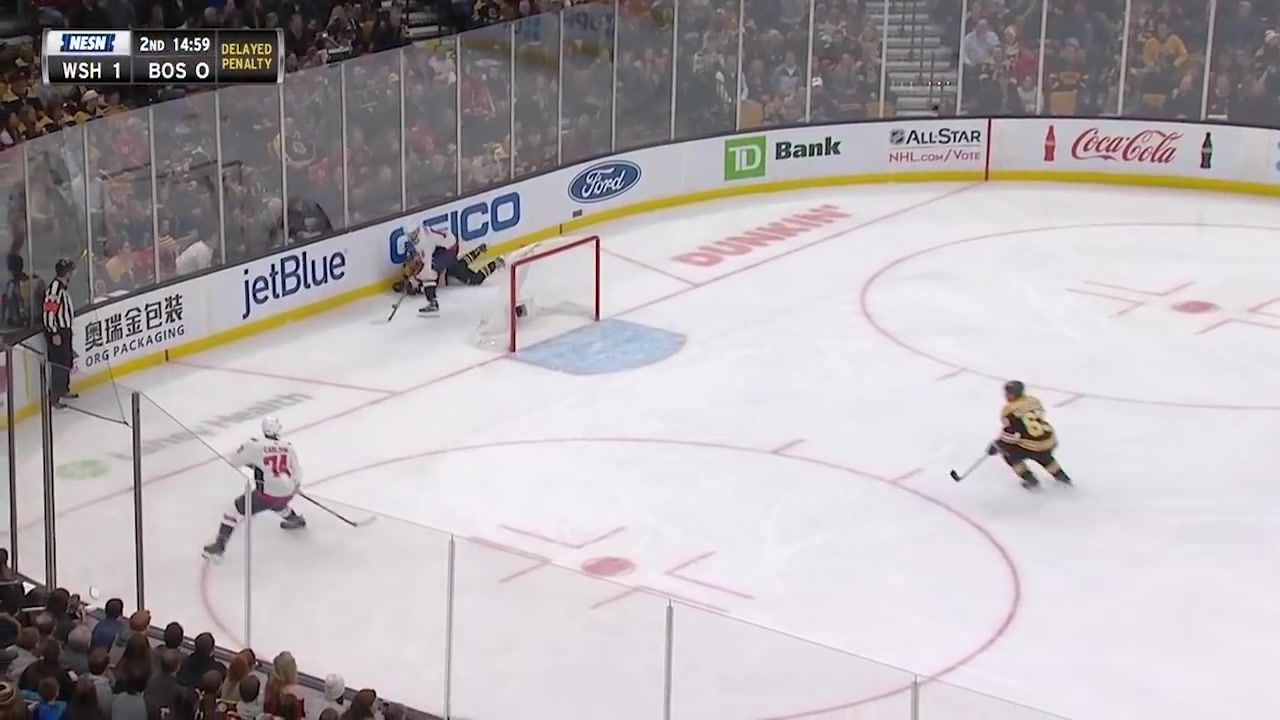geico: (385, 200, 531, 270)
